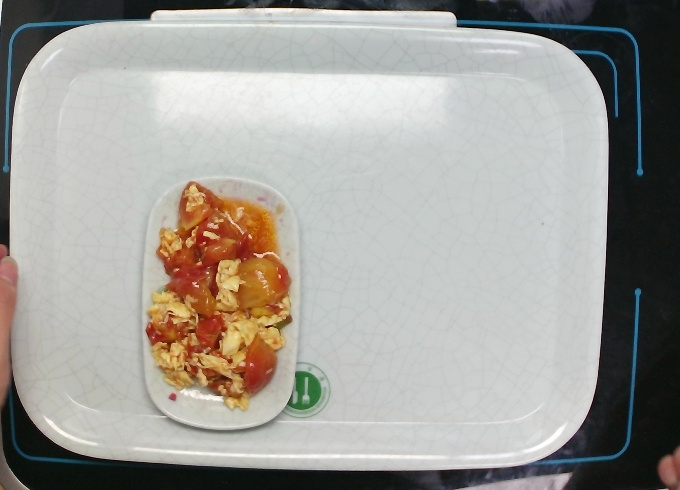WCQzf-Tuo_Yuan_Pan: (136, 172, 302, 433)
